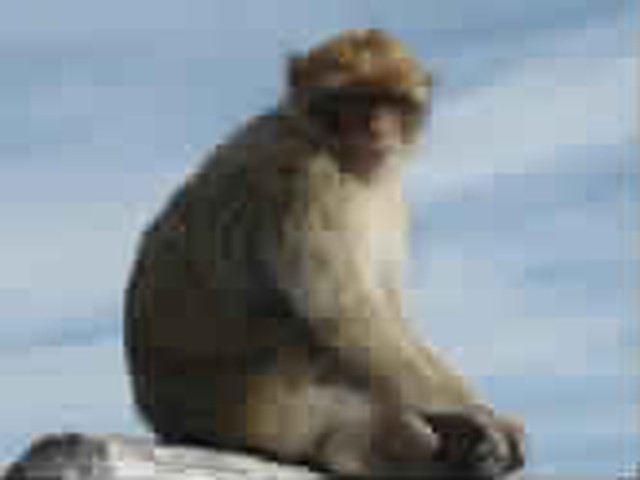Monkey: (121, 21, 547, 472)
